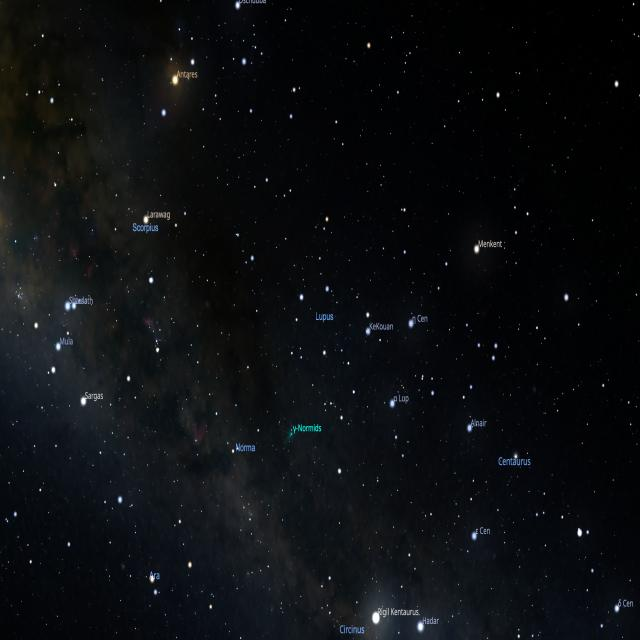Lupus: (232, 170, 426, 481)
